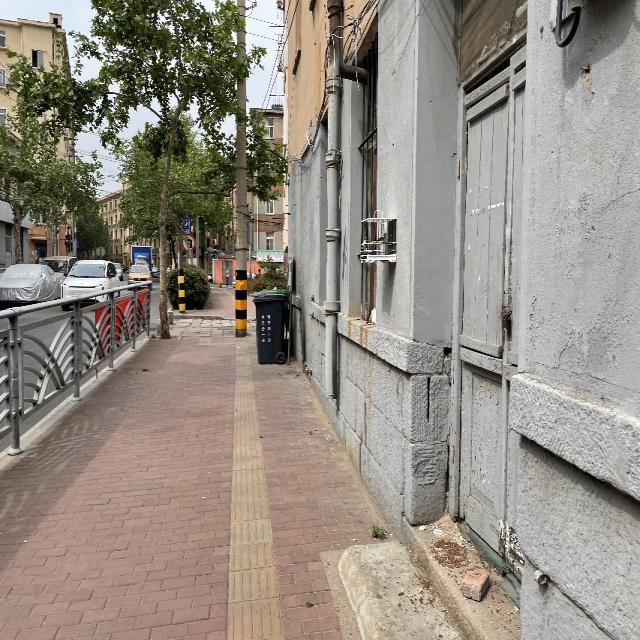garbage_bin: (253, 293, 285, 363)
